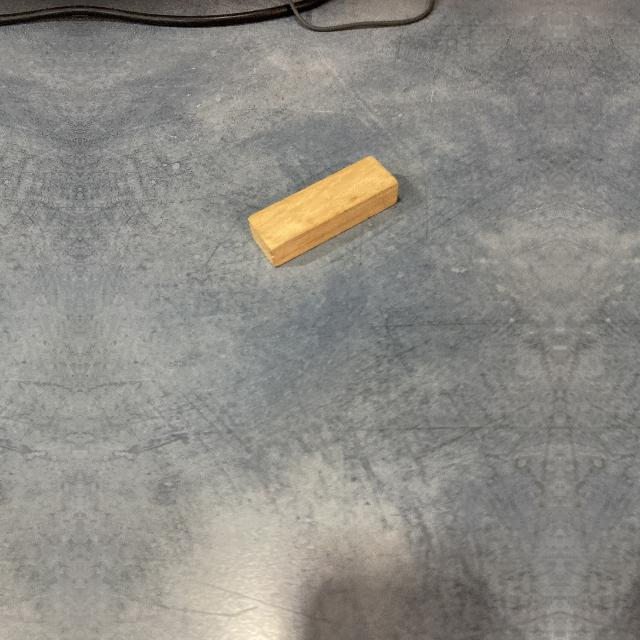jenga: (247, 156, 398, 269)
